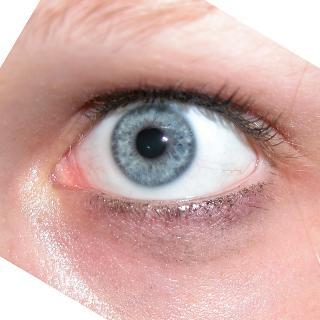pupil: (135, 128, 166, 159)
